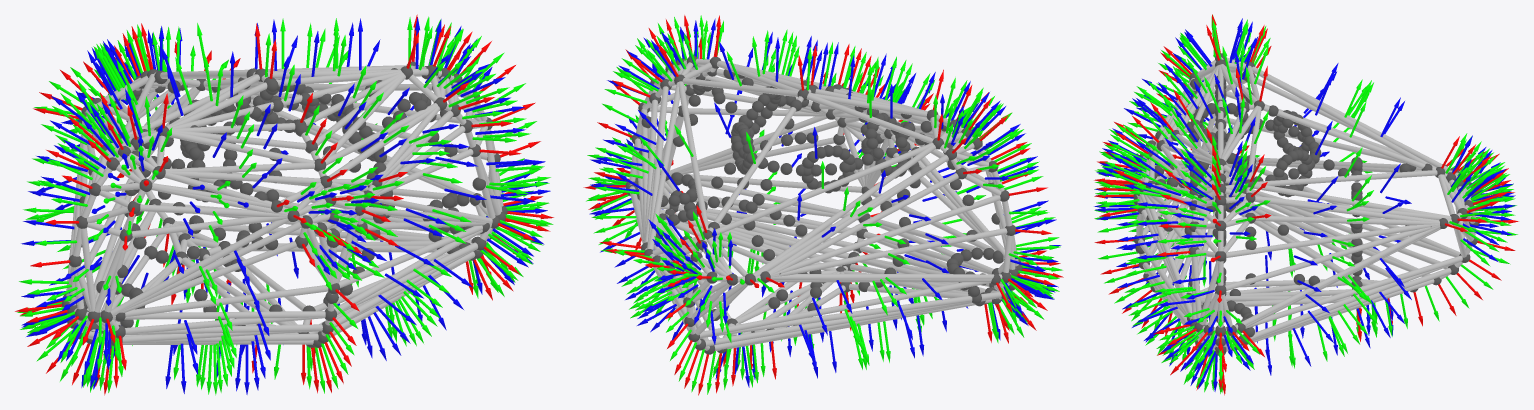
The model's file is scaffolds3d_dog.gltf.
3 renders of one model, left to right at view 1: azimuth 30°, elevation 25°; view 2: azimuth 150°, elevation 25°; view 3: azimuth 270°, elevation 25°, orthographic. The views are drawn at different scales.
Size of the model in its own units: 0.8774 by 0.5315 by 0.7476.
